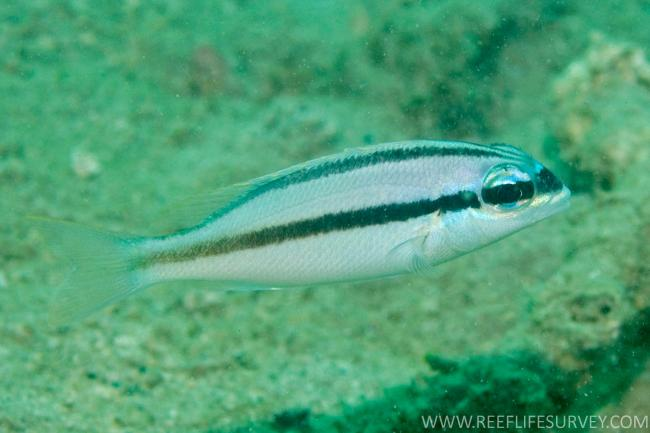fish: (24, 139, 571, 327)
